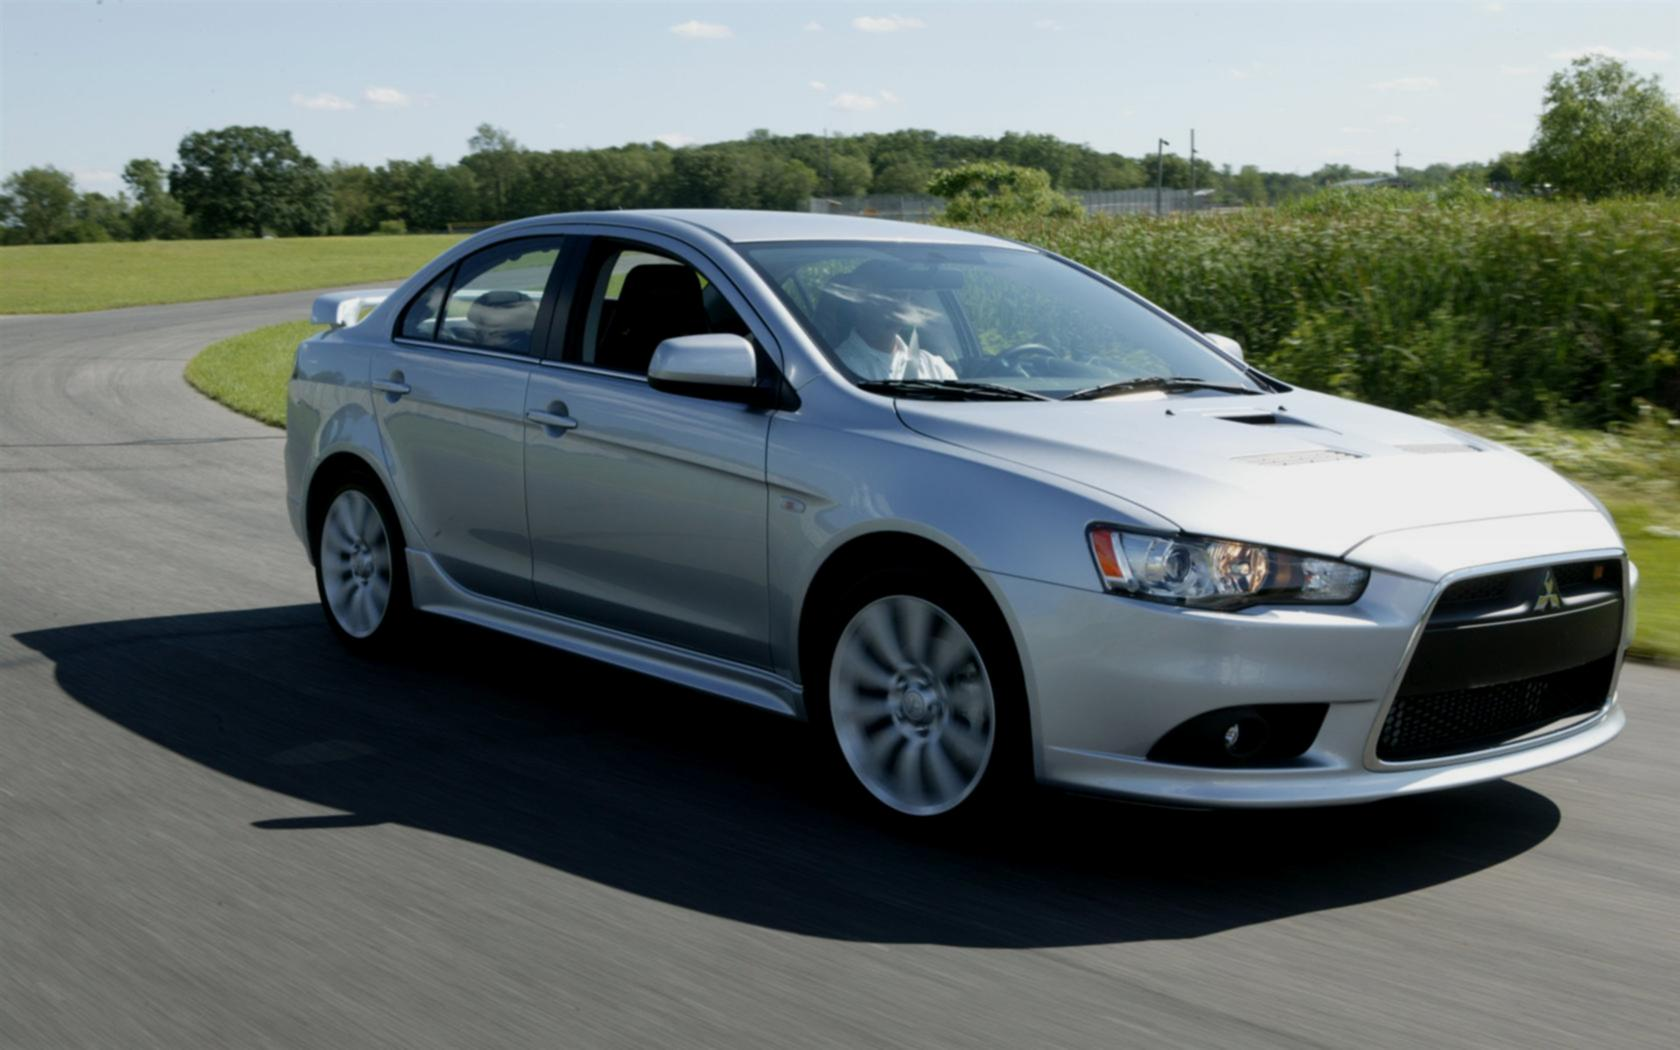Mitsubishi: (1514, 556, 1590, 630)
